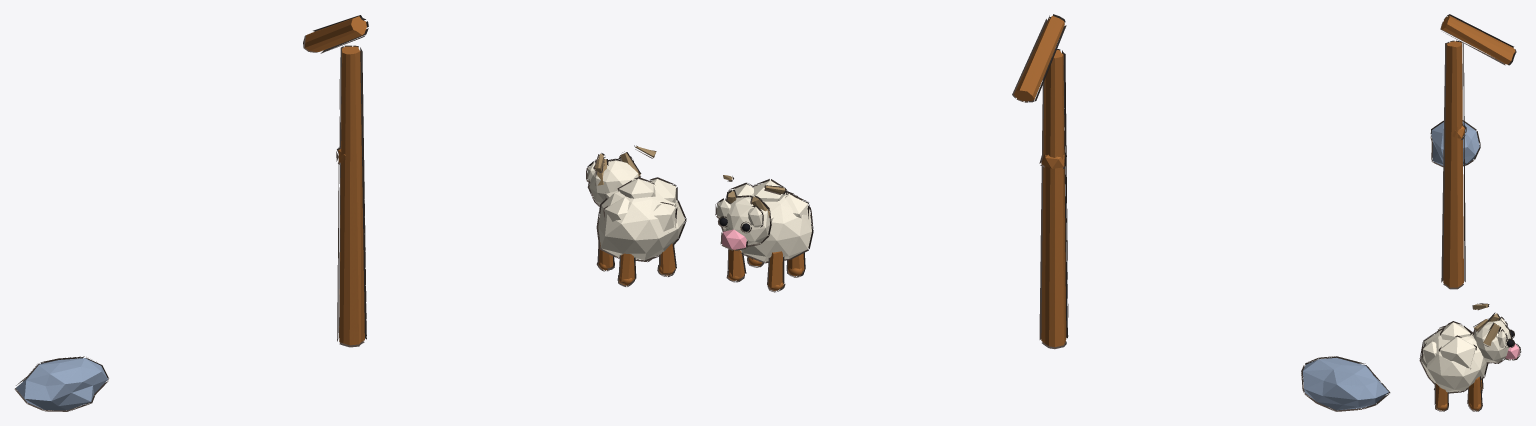
File: wonder_items_v6.glb
The picture shows the model from 3 angles, left to right: view 1: azimuth 30°, elevation 25°; view 2: azimuth 150°, elevation 25°; view 3: azimuth 270°, elevation 25°; orthographic projection. The views are drawn at different scales.
Visible parts, largest first — view 1: WonderItem_Lamb, WonderItem_Staff, WonderItem_Stone, WonderItem_Staff_Outline, WonderItem_Lamb_Outline; view 2: WonderItem_Staff, WonderItem_Lamb, WonderItem_Stone, WonderItem_Staff_Outline, WonderItem_Lamb_Outline; view 3: WonderItem_Staff, WonderItem_Lamb, WonderItem_Staff_Outline, WonderItem_Lamb_Outline, WonderItem_Stone, WonderItem_Stone_Outline.
Boxes of the visible parts, x1,y1,x2,y2 form: WonderItem_Lamb: (587,146,684,285); WonderItem_Staff: (304,16,366,345); WonderItem_Stone: (15,358,107,410); WonderItem_Staff_Outline: (303,15,368,347); WonderItem_Lamb_Outline: (586,145,686,286); WonderItem_Staff: (1014,16,1066,347); WonderItem_Lamb: (717,175,811,290); WonderItem_Stone: (1303,357,1388,410); WonderItem_Staff_Outline: (1012,14,1068,349); WonderItem_Lamb_Outline: (715,175,813,292); WonderItem_Staff: (1441,15,1515,287); WonderItem_Lamb: (1421,304,1519,410); WonderItem_Staff_Outline: (1440,14,1516,289); WonderItem_Lamb_Outline: (1419,303,1521,411); WonderItem_Stone: (1431,121,1479,165); WonderItem_Stone_Outline: (1430,120,1480,166).
Bounding box in the file's own units: 3.68 × 1.76 × 0.5962.
Materials: 7 (6 with a texture image).
